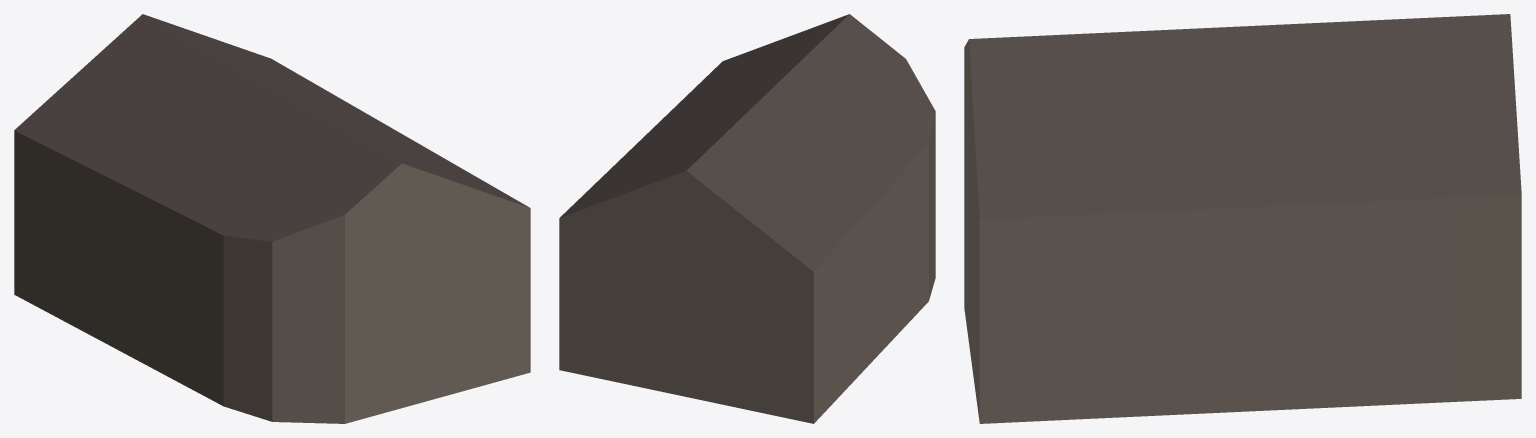
3 renders of one model, left to right at view 1: azimuth 30°, elevation 25°; view 2: azimuth 150°, elevation 25°; view 3: azimuth 270°, elevation 25°, orthographic. The views are drawn at different scales.
Parts seen in each view (by area): view 1: HP-w1512965884; view 2: HP-w1512965884; view 3: HP-w1512965884.
Boxes of the visible parts, x1,y1,x2,y2 form: HP-w1512965884: [14, 14, 530, 423]; HP-w1512965884: [559, 14, 935, 423]; HP-w1512965884: [964, 14, 1521, 423].
Size of the model in its own units: 17.64 by 13.41 by 22.27.
